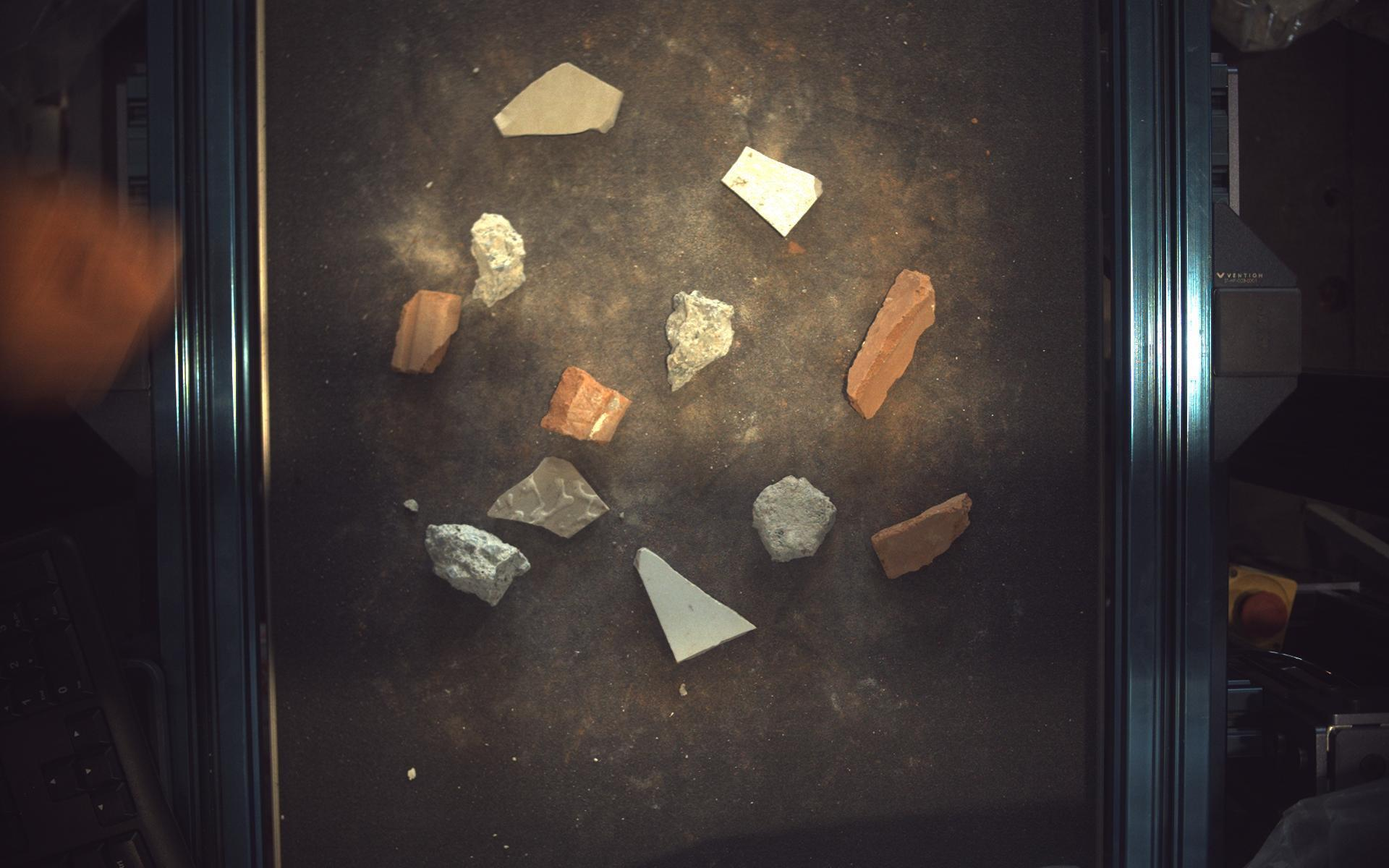brick: (848, 269, 936, 418), (874, 494, 974, 579), (541, 366, 632, 443), (391, 290, 462, 374)
concrete: (425, 526, 530, 606), (754, 475, 838, 562), (667, 289, 734, 391), (471, 212, 526, 307)
tile: (636, 548, 757, 663), (488, 458, 610, 538), (494, 61, 624, 135), (723, 145, 824, 236)
